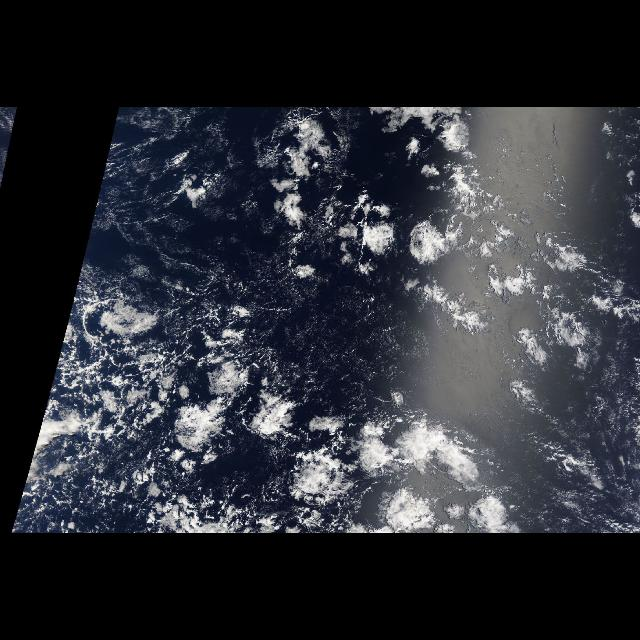Flower: (192, 116, 618, 528)
Gravel: (29, 288, 205, 534)
Sugar: (84, 205, 442, 409)
